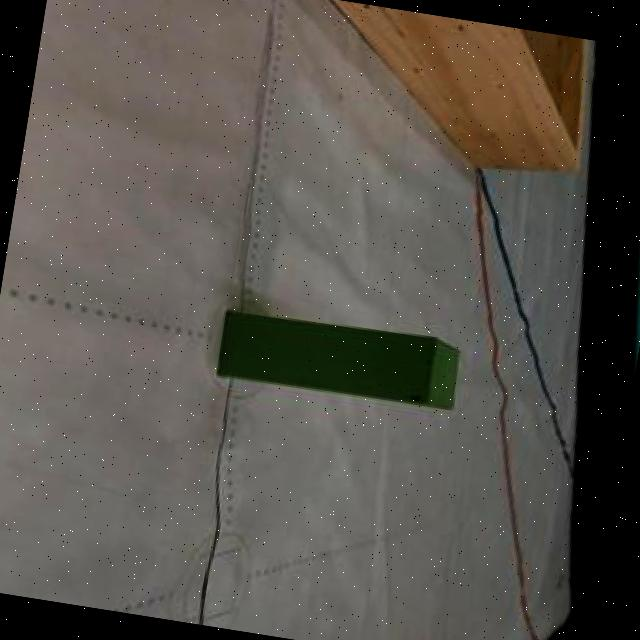greenbox: (213, 298, 466, 413)
